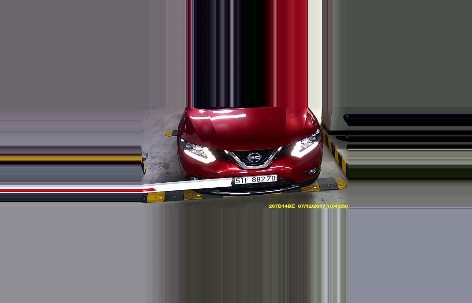plate: (235, 169, 280, 187)
